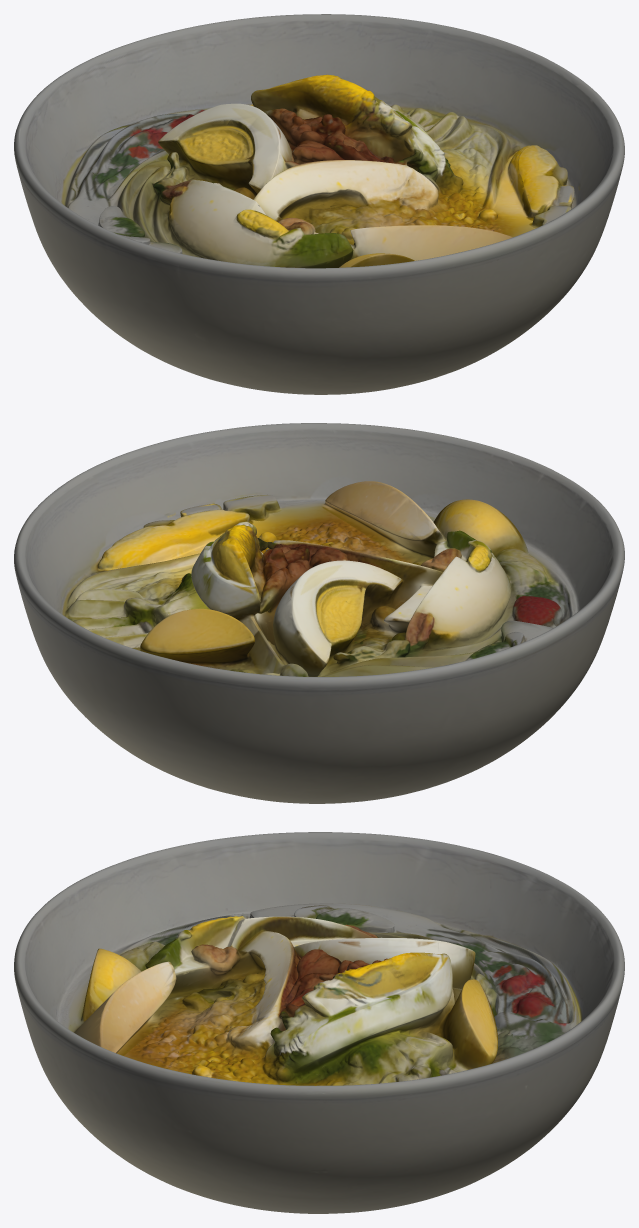
Rendered from soto.glb.
3 renders of one model, top to bottom at view 1: azimuth 30°, elevation 25°; view 2: azimuth 150°, elevation 25°; view 3: azimuth 270°, elevation 25°, orthographic.
Parts seen in each view (by area): view 1: material; view 2: material; view 3: material.
Boxes of the visible parts, box(x1,y1,x2,y2) form: material: box(14, 14, 624, 394); material: box(14, 423, 624, 803); material: box(14, 832, 624, 1213).
Size of the model in its own units: 1.14 by 0.4756 by 1.14.
1 material, 1 textured.
